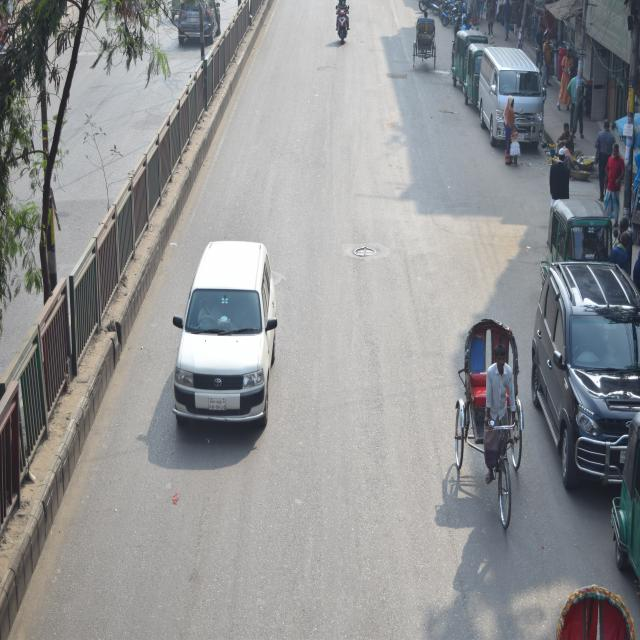car: (524, 250, 640, 518), (165, 229, 281, 476)
microbus: (472, 45, 559, 162)
motorbike: (332, 8, 358, 44)
